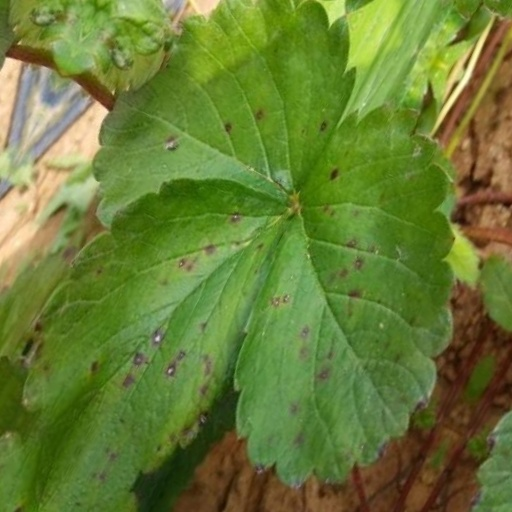Leaf Spot: (264, 49, 480, 447), (91, 190, 298, 511), (56, 0, 267, 304)
